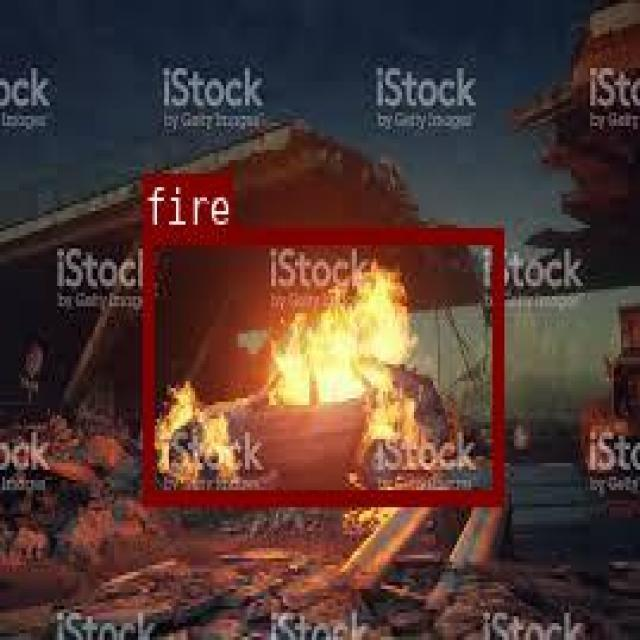fire: (141, 228, 500, 502)
